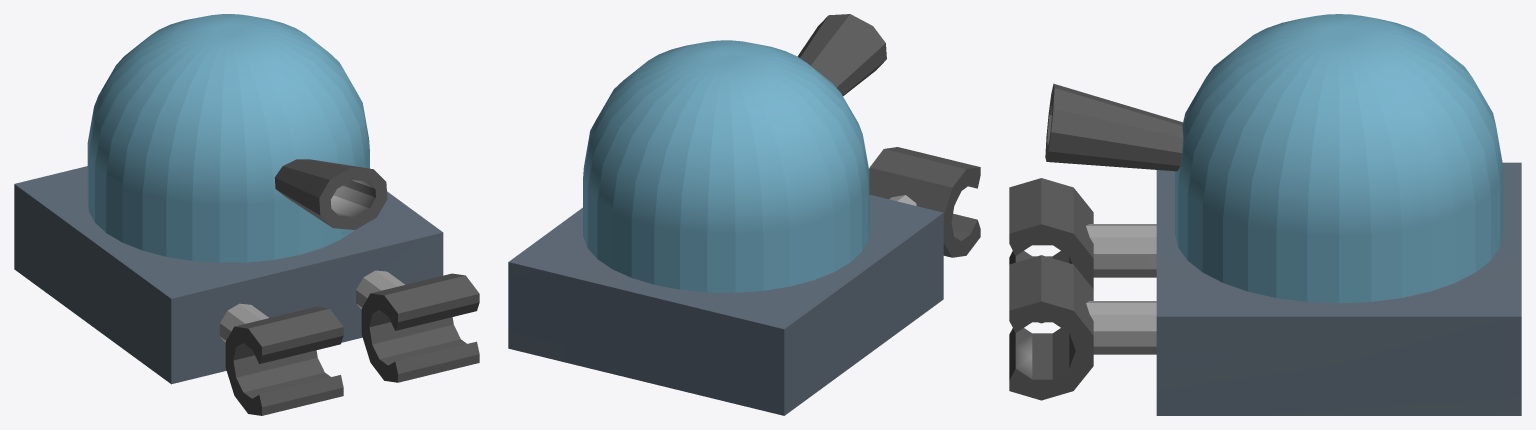
The model's file is Worker_v1.gltf.
The picture shows the model from 3 angles, left to right: view 1: azimuth 30°, elevation 25°; view 2: azimuth 150°, elevation 25°; view 3: azimuth 270°, elevation 25°; orthographic projection. The views are drawn at different scales.
Parts seen in each view (by area): view 1: Cube, PlayerColor, Canon; view 2: PlayerColor, Cube, Canon; view 3: PlayerColor, Cube, Canon.
Part boxes in pixels (x1,y1,x2,y2): Cube: (14, 166, 479, 415); PlayerColor: (87, 14, 369, 262); Canon: (274, 159, 387, 229); PlayerColor: (583, 40, 869, 292); Cube: (508, 147, 980, 415); Canon: (797, 14, 886, 95); PlayerColor: (1175, 14, 1503, 303); Cube: (1009, 162, 1521, 415); Canon: (1045, 83, 1183, 171).
Bounding box in the file's own units: 0.3659 × 0.3379 × 0.5138.
